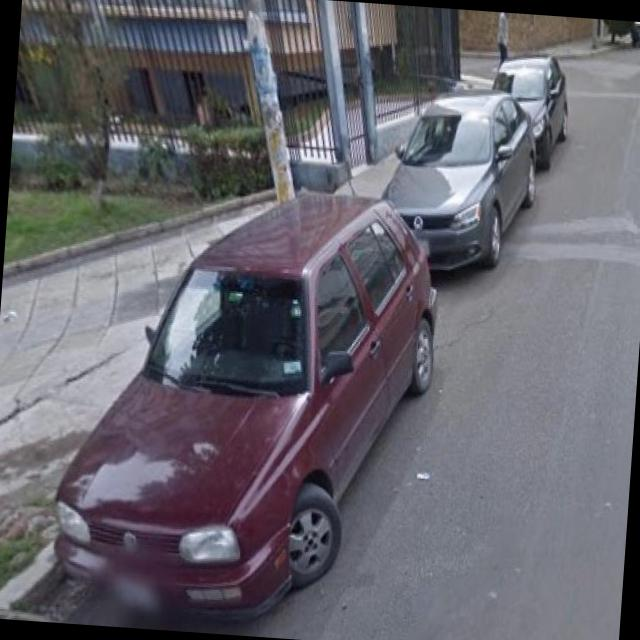car: (50, 182, 454, 640), (382, 54, 523, 230)
